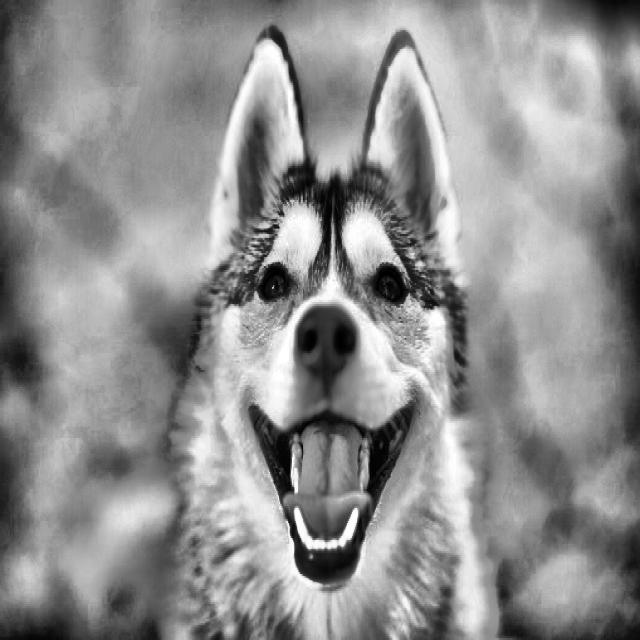husky: (185, 9, 480, 622)
